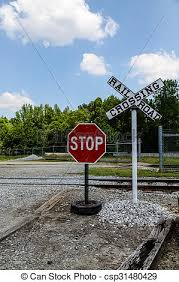stop: (64, 121, 109, 166)
